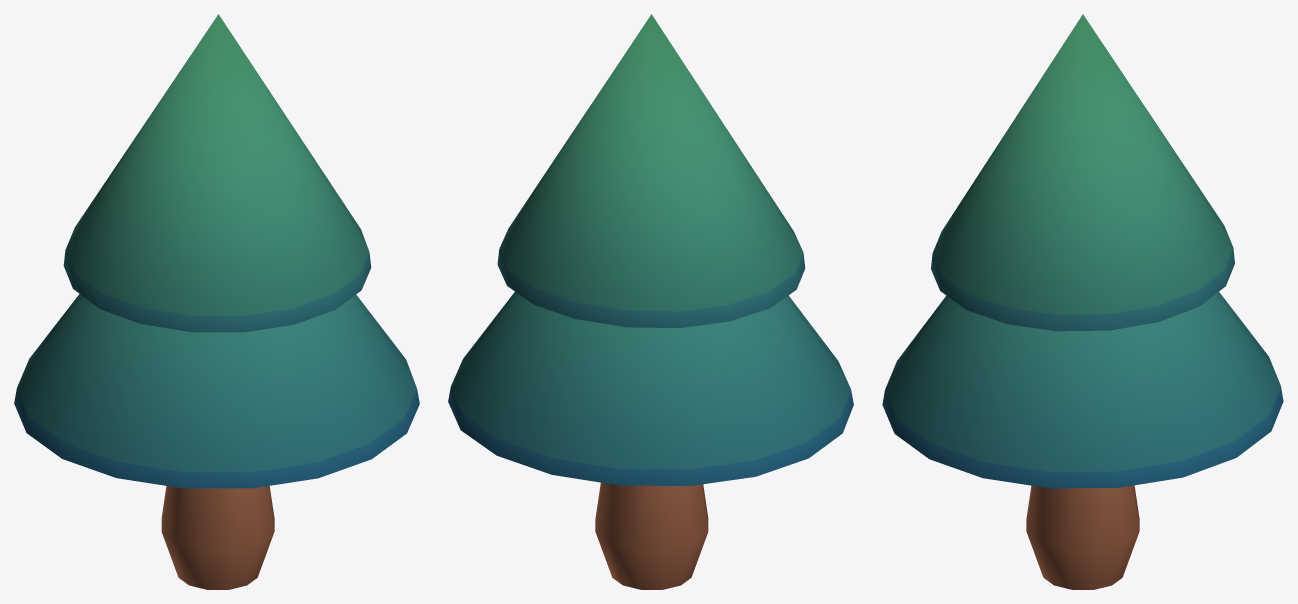
File: Tree.glb
3 renders of one model, left to right at view 1: azimuth 30°, elevation 25°; view 2: azimuth 150°, elevation 25°; view 3: azimuth 270°, elevation 25°, orthographic.
Visible parts, largest first — view 1: tree; view 2: tree; view 3: tree.
Part boxes in pixels (left/top/right/bottom): tree: left=14, top=14, right=419, bottom=589; tree: left=448, top=14, right=853, bottom=589; tree: left=882, top=14, right=1283, bottom=589.
Size of the model in its own units: 2.28 by 3.49 by 2.27.
Materials: 1 (1 with a texture image).
